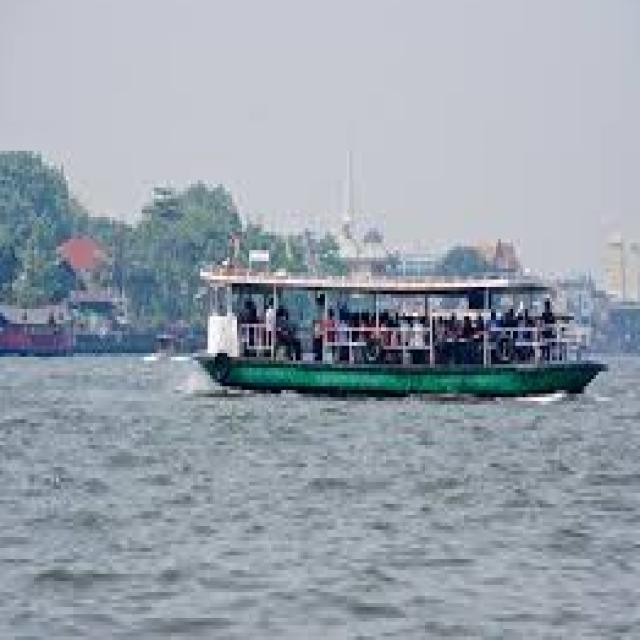passenger ship: (177, 216, 600, 398)
